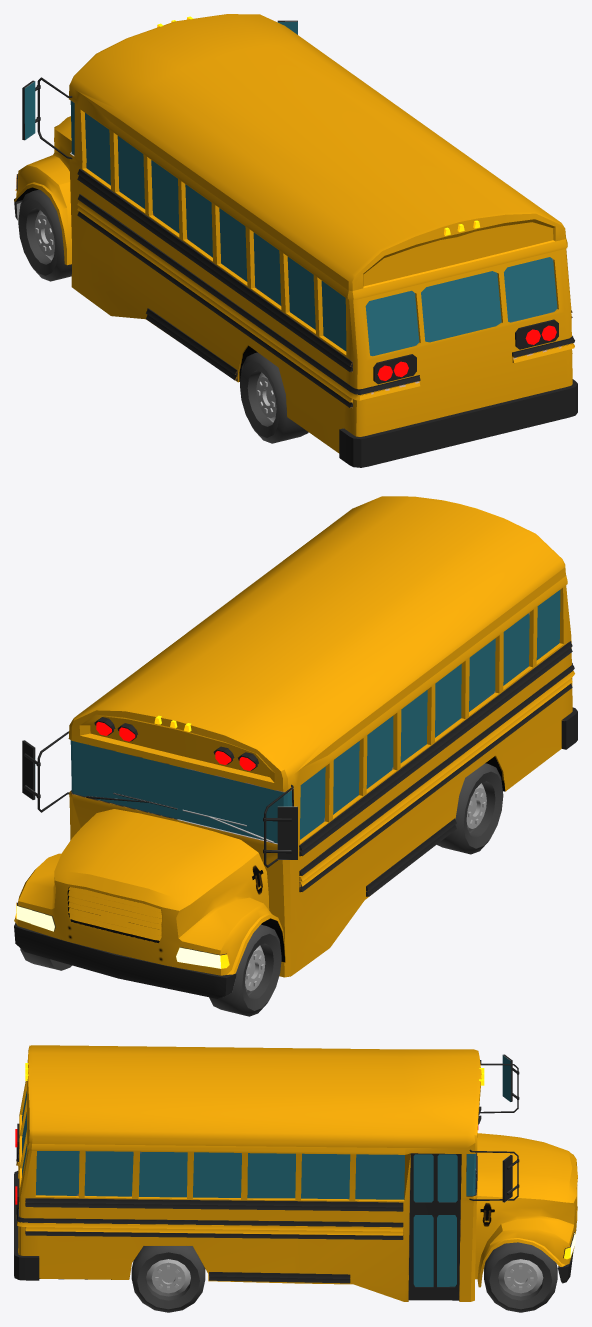
The model's file is SchoolBus.fbx.
3 renders of one model, top to bottom at view 1: azimuth 30°, elevation 25°; view 2: azimuth 150°, elevation 25°; view 3: azimuth 270°, elevation 25°, orthographic. The views are drawn at different scales.
Visible parts, largest first — view 1: SchoolBus, SchoolBusW-BL, SchoolBusW-FL; view 2: SchoolBus, SchoolBusW-BL, SchoolBusW-FL; view 3: SchoolBus, SchoolBusW-FR, SchoolBusW-BR.
Boxes of the visible parts, x1=… form: SchoolBus: x1=14, y1=14, x2=577, y2=467; SchoolBusW-BL: x1=240, y1=352, x2=308, y2=443; SchoolBusW-FL: x1=18, y1=189, x2=71, y2=281; SchoolBus: x1=14, y1=496, x2=577, y2=998; SchoolBusW-BL: x1=437, y1=763, x2=503, y2=854; SchoolBusW-FL: x1=209, y1=924, x2=281, y2=1016; SchoolBus: x1=14, y1=1045, x2=577, y2=1301; SchoolBusW-FR: x1=484, y1=1242, x2=557, y2=1312; SchoolBusW-BR: x1=131, y1=1246, x2=205, y2=1312.
Size of the model in its own units: 1263 by 1125 by 2818.
